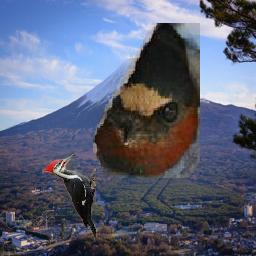Swallow: (94, 24, 201, 179)
Woodpecker: (42, 154, 96, 243)
